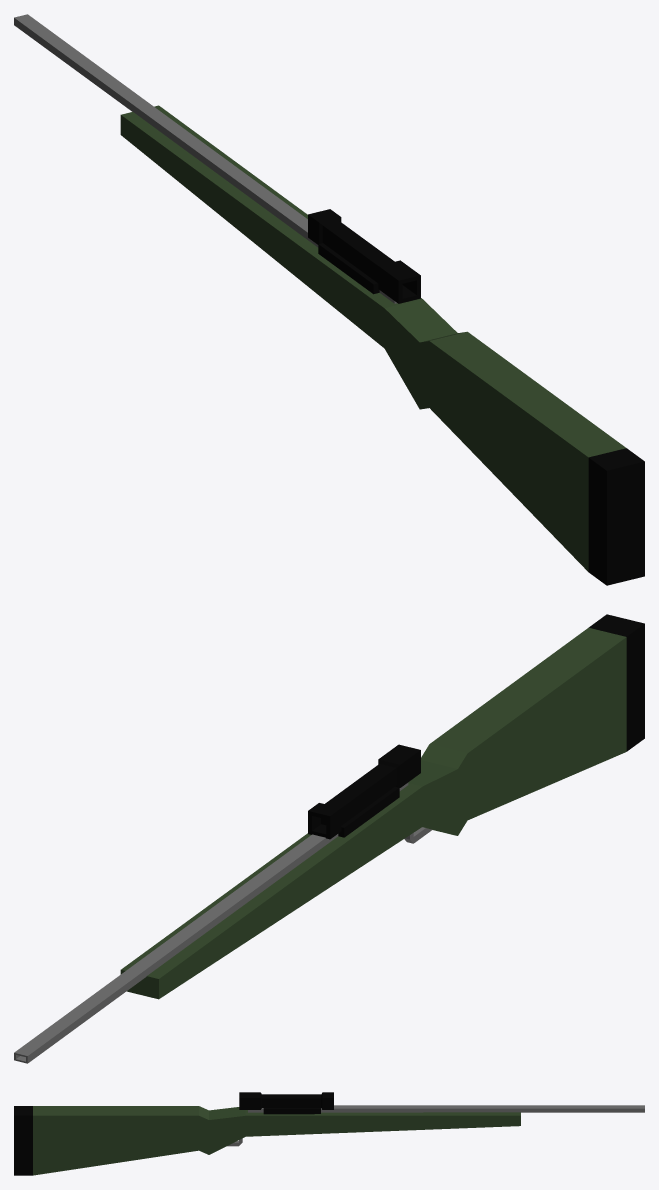
The model's file is sniper.fbx.
The picture shows the model from 3 angles, top to bottom: view 1: azimuth 30°, elevation 25°; view 2: azimuth 150°, elevation 25°; view 3: azimuth 270°, elevation 25°; orthographic projection. The views are drawn at different scales.
Visible parts, largest first — view 1: Sniper; view 2: Sniper; view 3: Sniper.
Boxes of the visible parts, <box> form: Sniper: <box>14,14,644,585</box>; Sniper: <box>14,614,644,1063</box>; Sniper: <box>14,1092,644,1175</box>.
Bounding box in the file's own units: 20.49 × 74.32 × 563.
